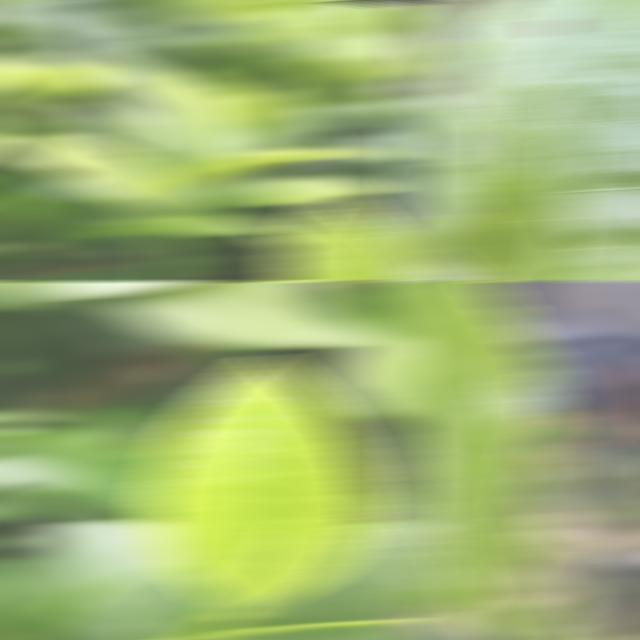Leaf: (142, 356, 376, 606), (398, 282, 560, 640), (438, 0, 640, 280), (205, 519, 420, 640), (0, 520, 197, 640), (76, 48, 239, 174), (2, 133, 194, 233), (101, 282, 382, 347), (0, 428, 168, 521), (273, 186, 420, 280), (161, 148, 411, 197), (398, 95, 473, 250), (327, 340, 420, 425), (207, 175, 395, 210), (134, 580, 233, 640), (491, 581, 588, 640), (0, 282, 202, 307), (19, 64, 108, 102), (371, 72, 420, 129)
